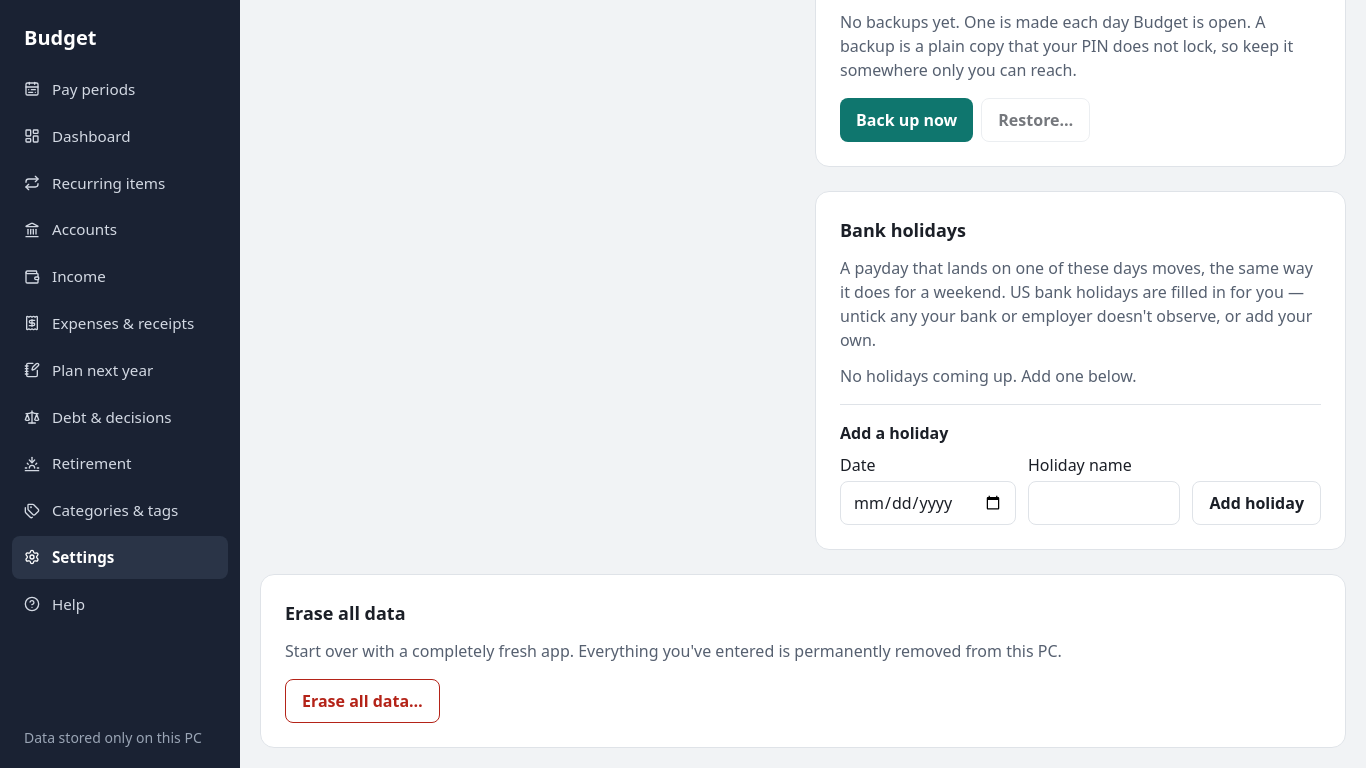
Test: erase all data › explains kindly when erasing fails, and leaves the choice open
(page scrolled)
Step 1. Click the button "Erase all data…" → point(362, 701), box [285, 679, 440, 723]
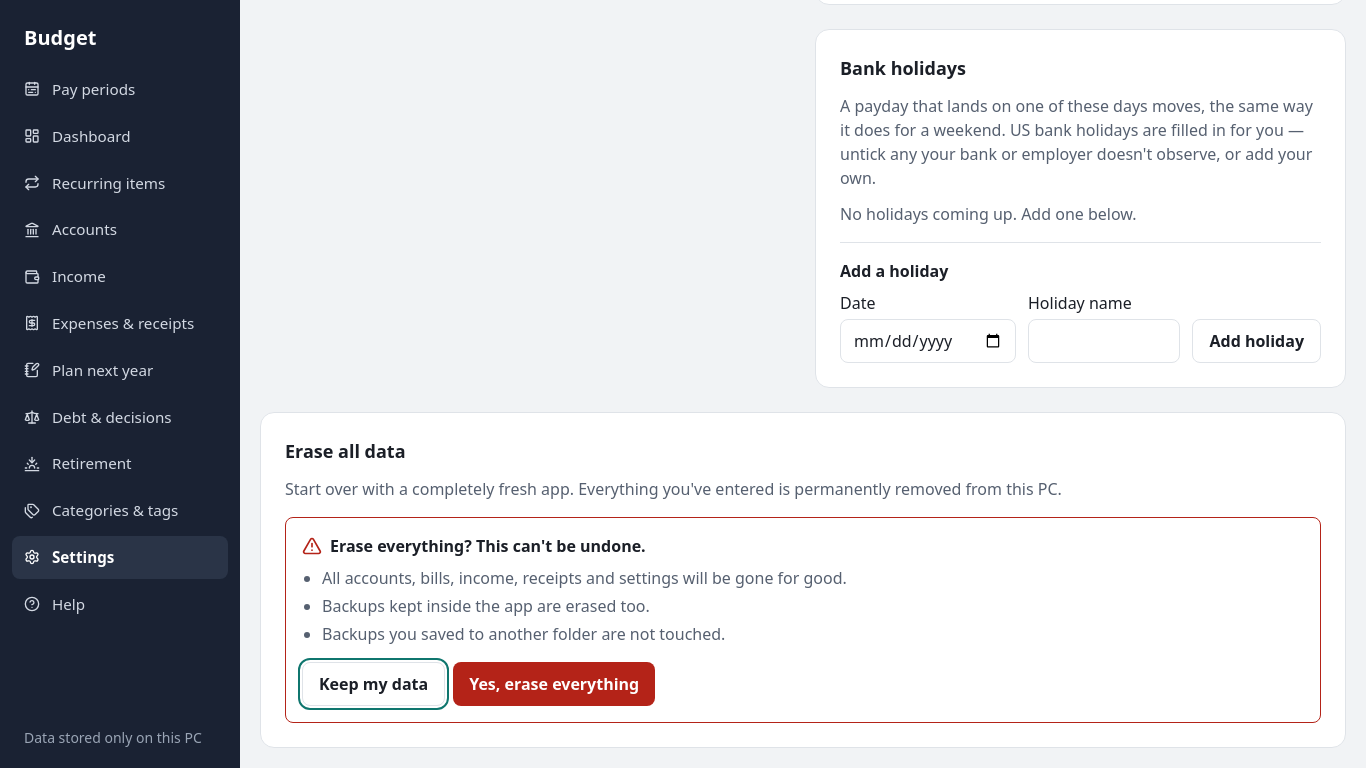
Step 2. Click the button "Yes, erase everything" → point(554, 684), box [453, 662, 655, 706]
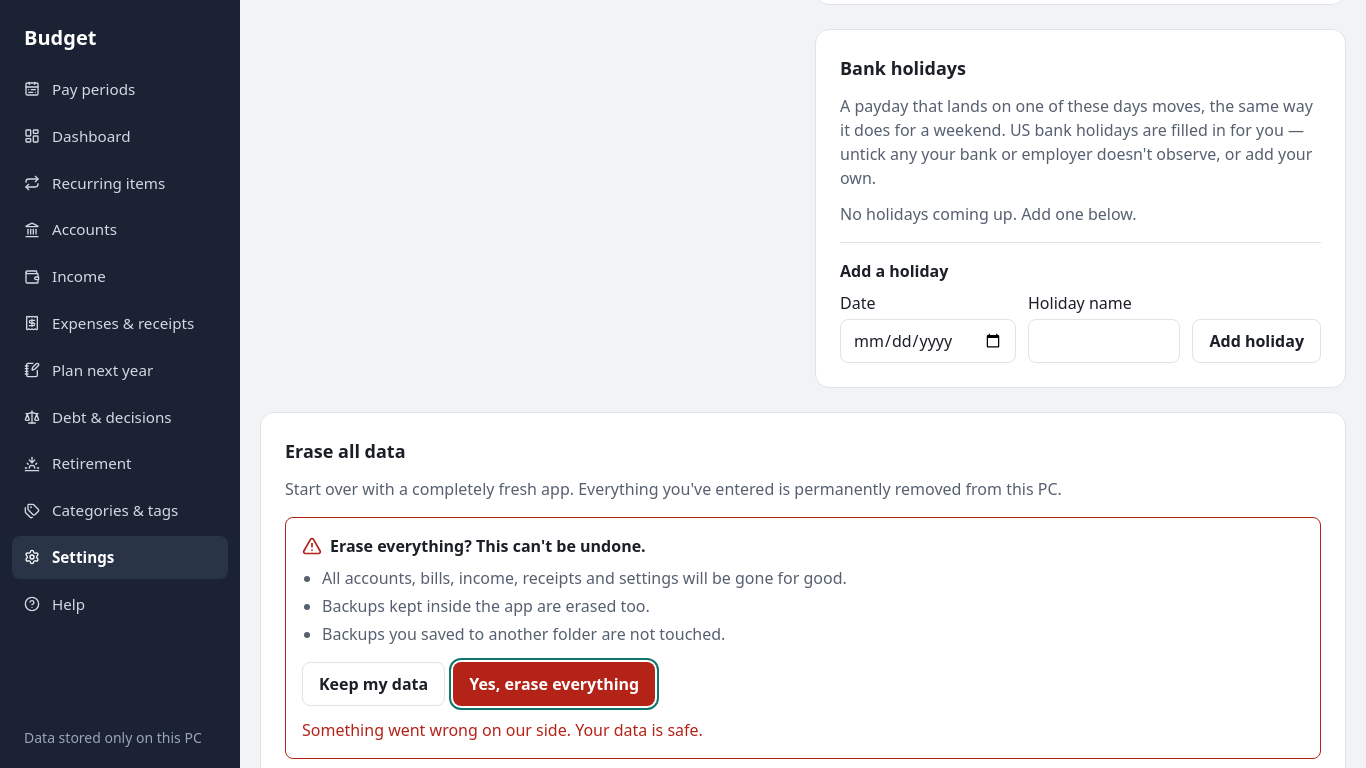
Expected: the button "Keep my data" is enabled, [302, 662, 445, 706]
Expected: the message shows "Your data is safe", [302, 719, 703, 741]
